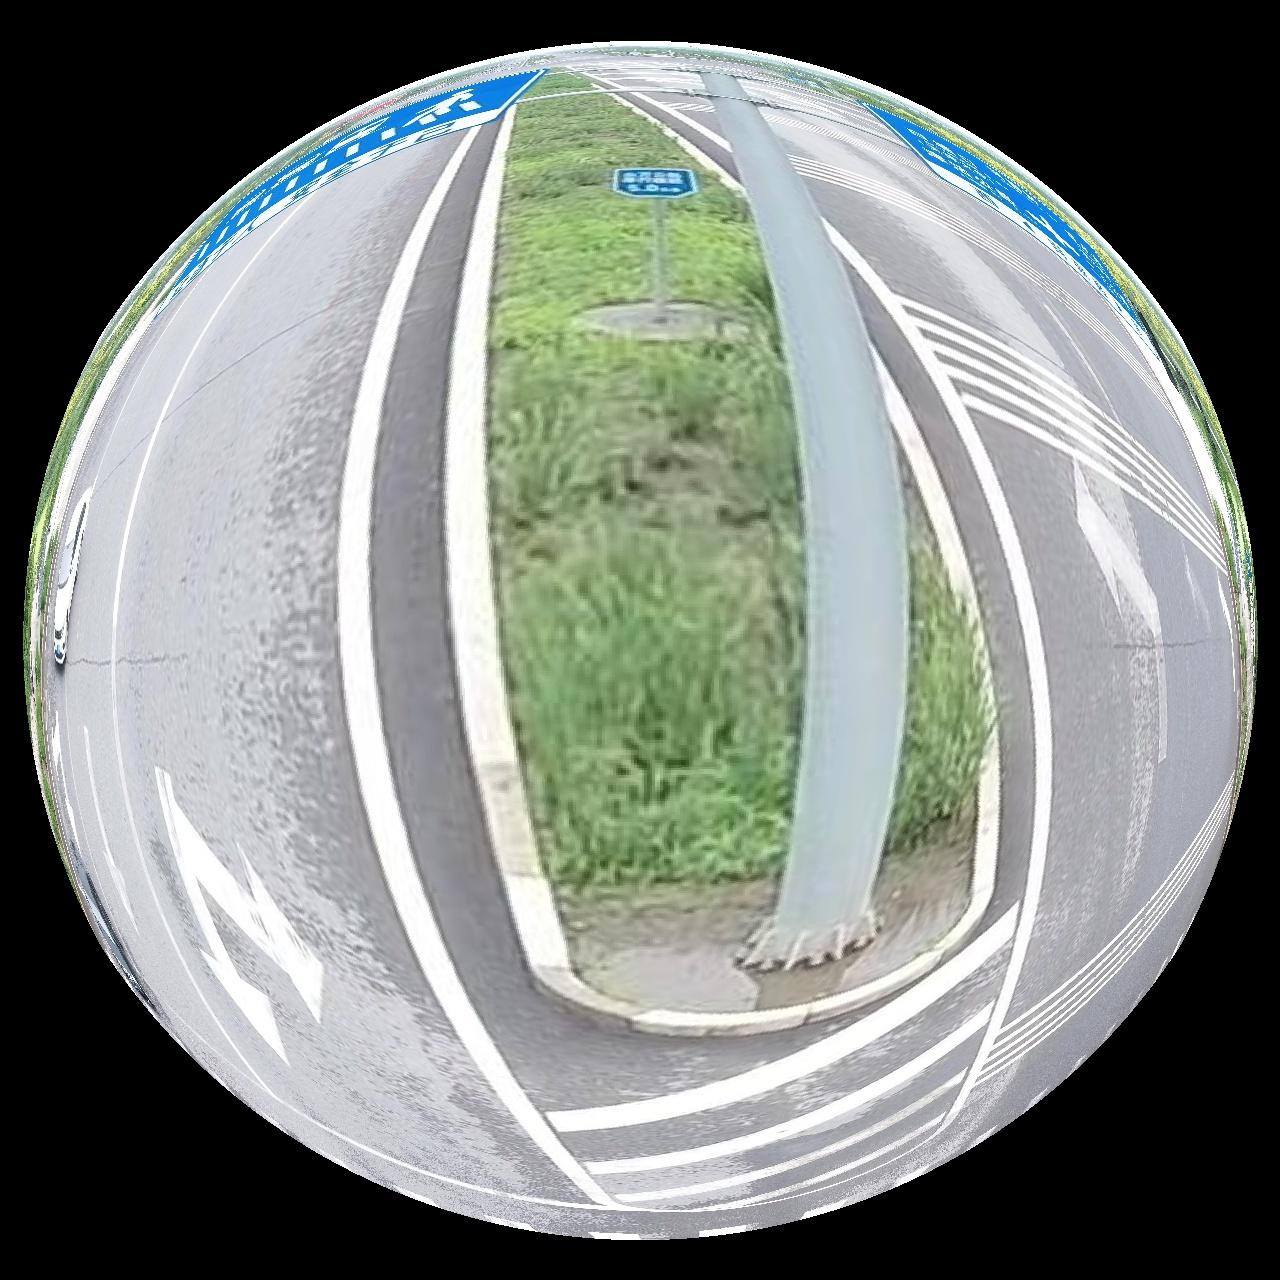cars: (49, 486, 90, 666)
